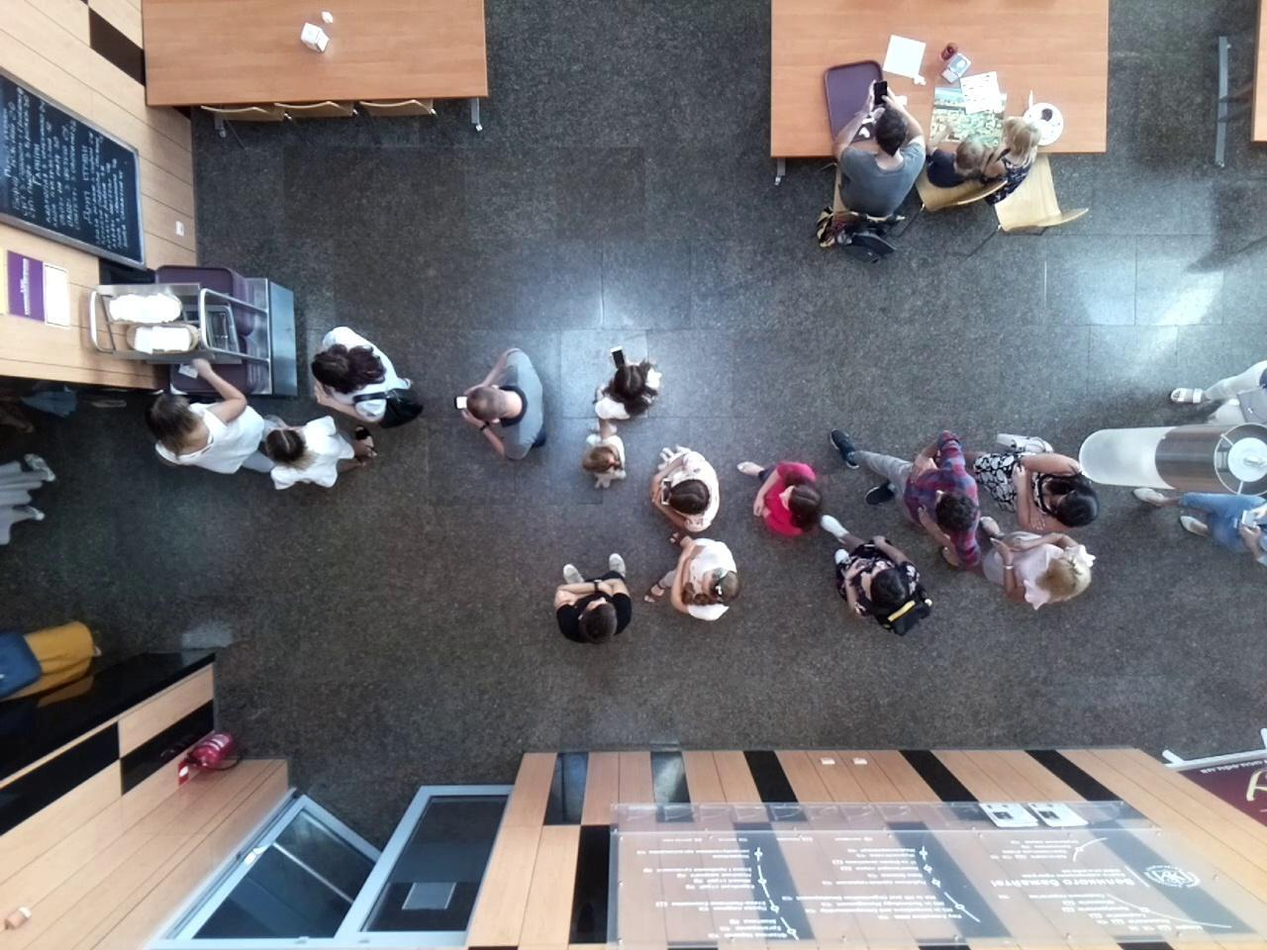person: (836, 417, 974, 565), (307, 319, 434, 429), (975, 522, 1126, 614), (835, 110, 932, 249), (146, 396, 286, 488), (985, 406, 1102, 516), (460, 358, 554, 494), (262, 412, 380, 508), (796, 542, 929, 621), (545, 541, 645, 645), (631, 449, 742, 535), (647, 539, 752, 627), (736, 467, 841, 547), (599, 335, 677, 437), (979, 121, 1057, 197), (928, 115, 985, 217), (576, 434, 627, 514)
